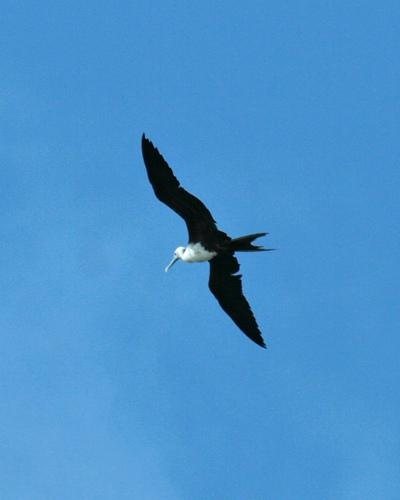bird: (135, 126, 270, 349)
